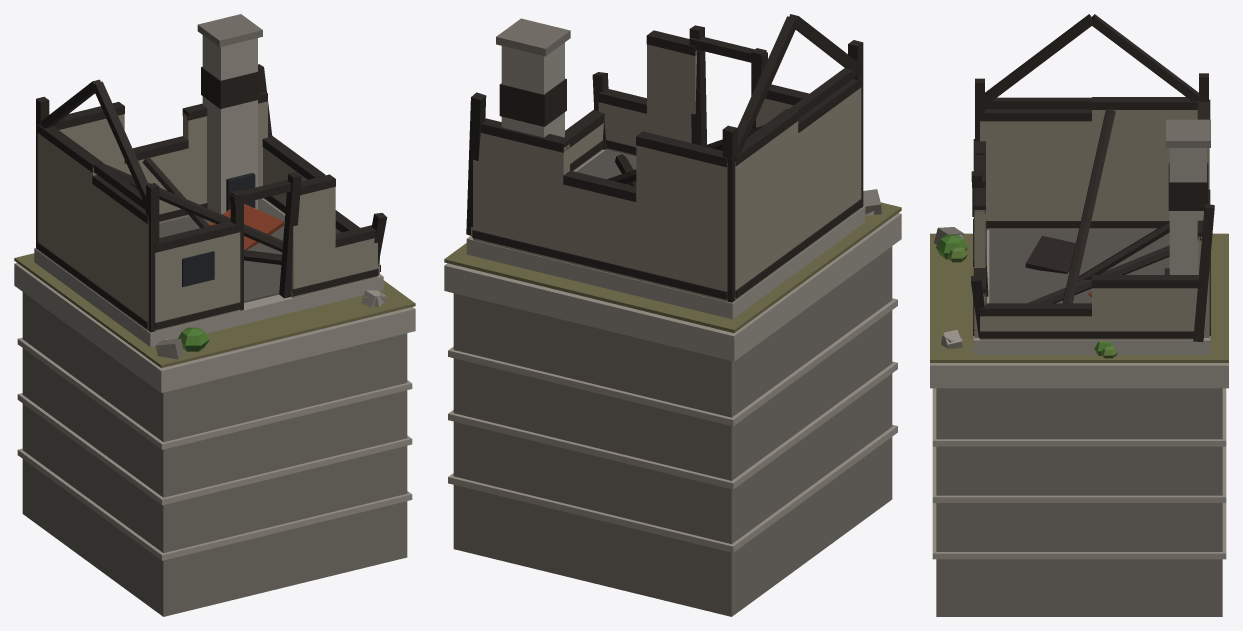
The model's file is decor_burnt_cottage.glb.
The picture shows the model from 3 angles, left to right: view 1: azimuth 30°, elevation 25°; view 2: azimuth 150°, elevation 25°; view 3: azimuth 270°, elevation 25°; orthographic projection. The views are drawn at different scales.
Visible parts, largest first — view 1: decor_burnt_cottage; view 2: decor_burnt_cottage; view 3: decor_burnt_cottage.
Boxes of the visible parts, x1=… form: decor_burnt_cottage: x1=14, y1=14, x2=415, y2=616; decor_burnt_cottage: x1=444, y1=14, x2=901, y2=616; decor_burnt_cottage: x1=930, y1=14, x2=1228, y2=616.
Bounding box in the file's own units: 4.8 × 8.6 × 4.8.
